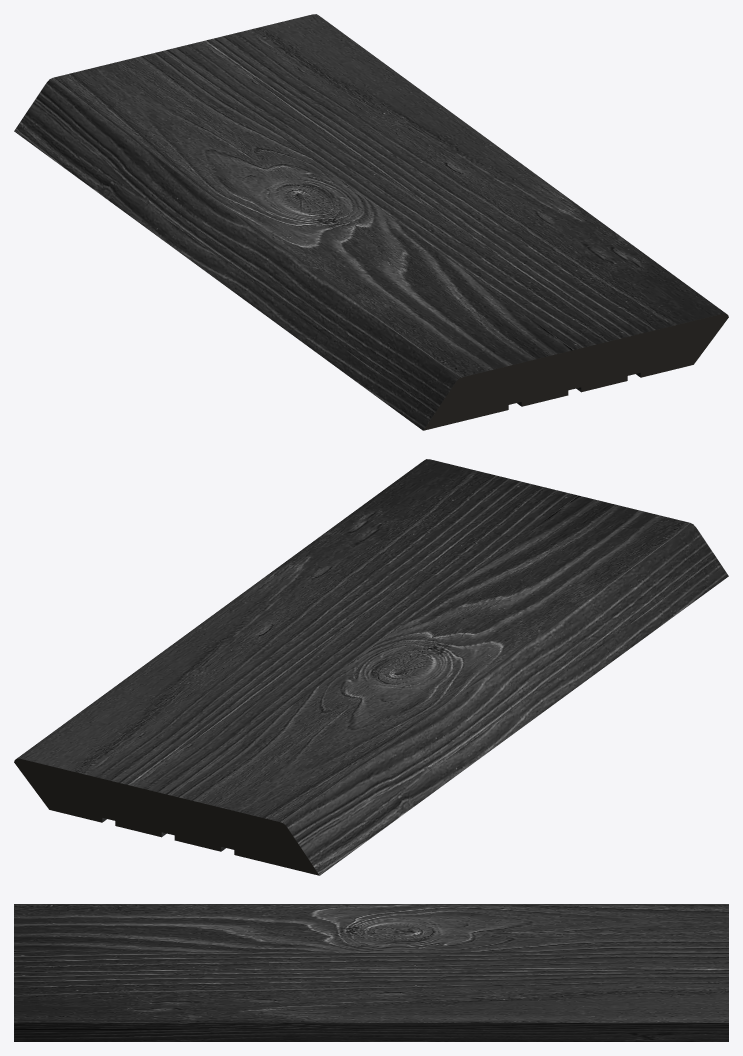
Rendered from spruce-facade-rhombus-black.glb.
3 renders of one model, top to bottom at view 1: azimuth 30°, elevation 25°; view 2: azimuth 150°, elevation 25°; view 3: azimuth 270°, elevation 25°, orthographic. The views are drawn at different scales.
Parts seen in each view (by area): view 1: Rombas; view 2: Rombas; view 3: Rombas.
Boxes of the visible parts, left/top/right/bottom form: Rombas: left=14, top=14, right=728, bottom=430; Rombas: left=14, top=459, right=728, bottom=875; Rombas: left=14, top=904, right=728, bottom=1041.
Size of the model in its own units: 0.0723 by 0.00995 by 0.1675.
Materials: 3 (1 with a texture image).
